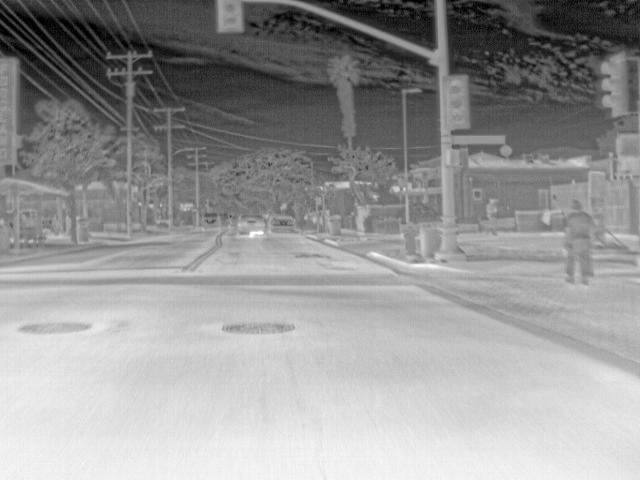car: (235, 212, 265, 236), (269, 214, 297, 234), (199, 211, 223, 230)
person: (562, 199, 594, 285), (484, 195, 498, 235)
